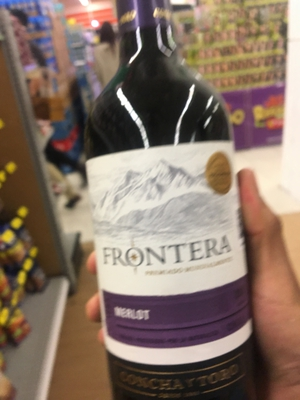frontera merlot: (82, 11, 260, 400)
